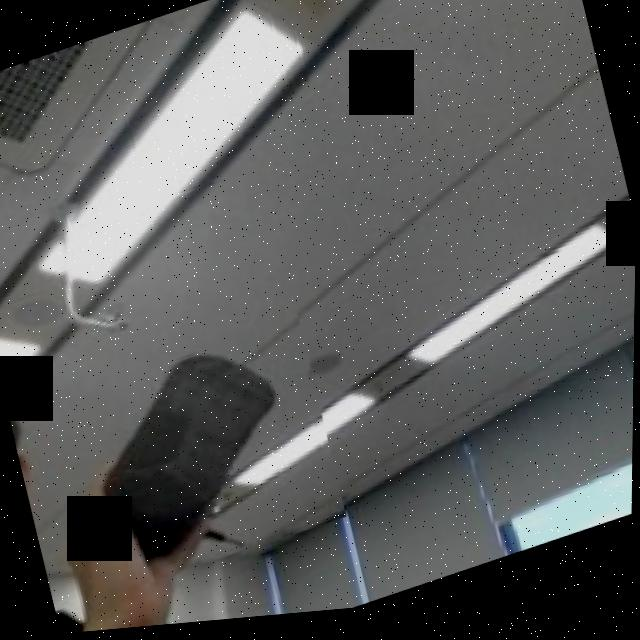shoe: (79, 277, 350, 593)
